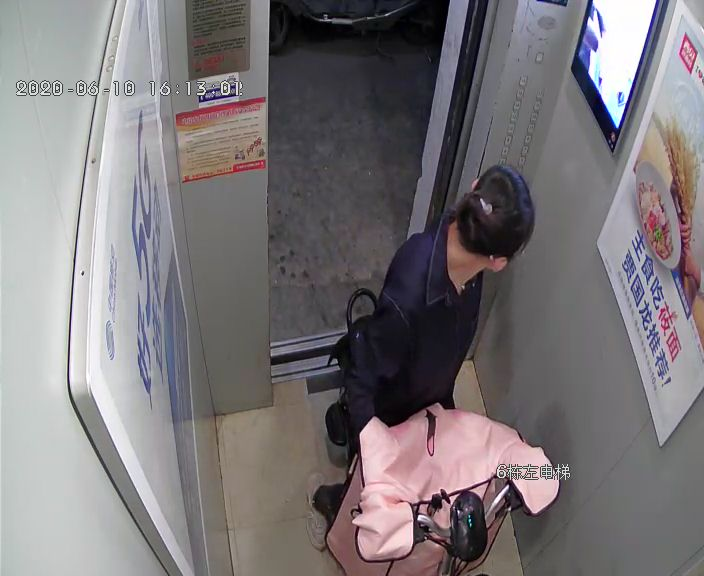Electric-bicycle: (325, 285, 514, 574)
